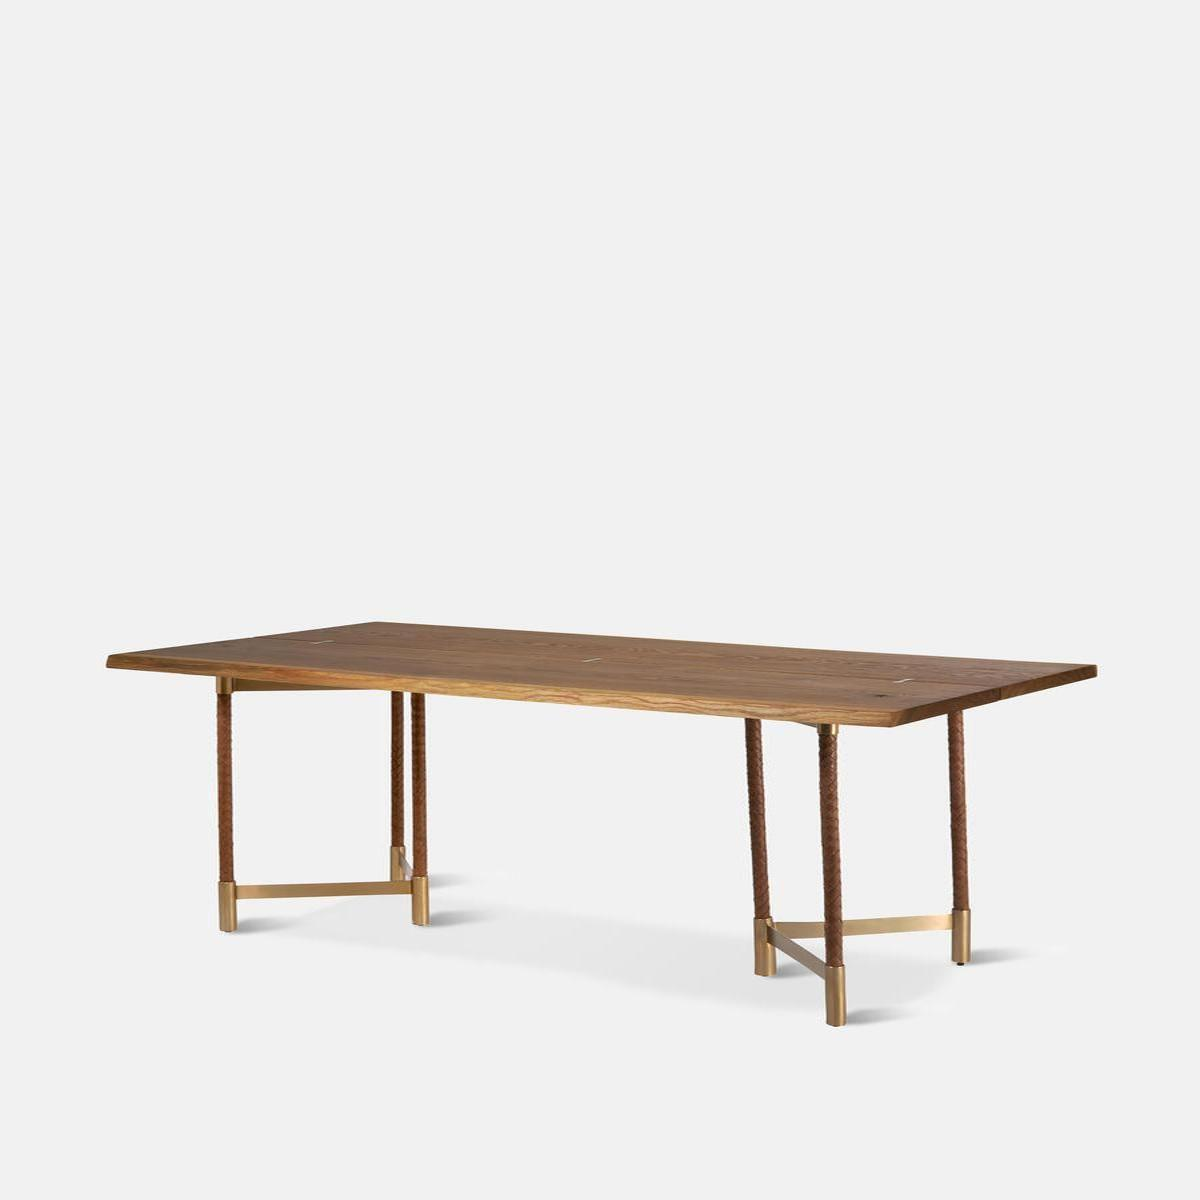Table: (74, 582, 1124, 1030)
